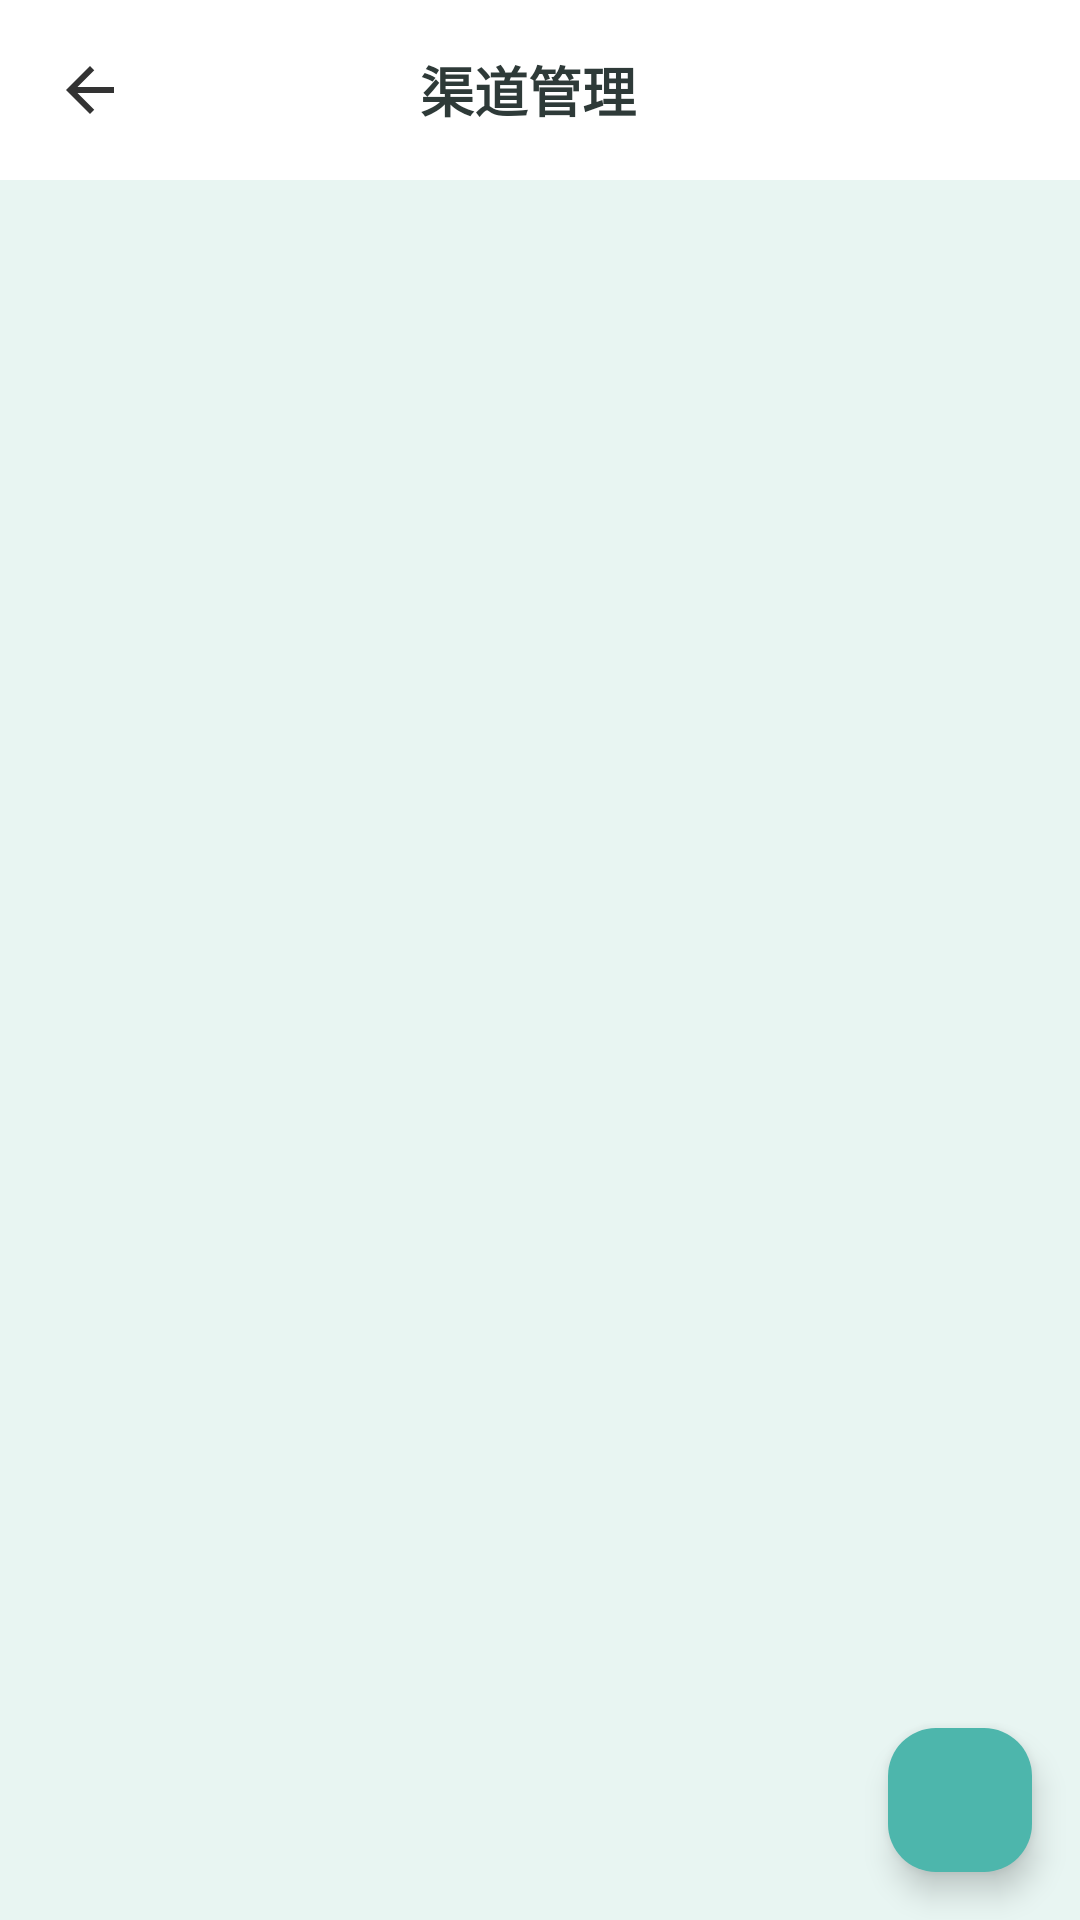

Icons on this 1080 × 1920 Android screen, each with its box as (x1, y1, x2, y2):
返回: (66, 66, 114, 114)
